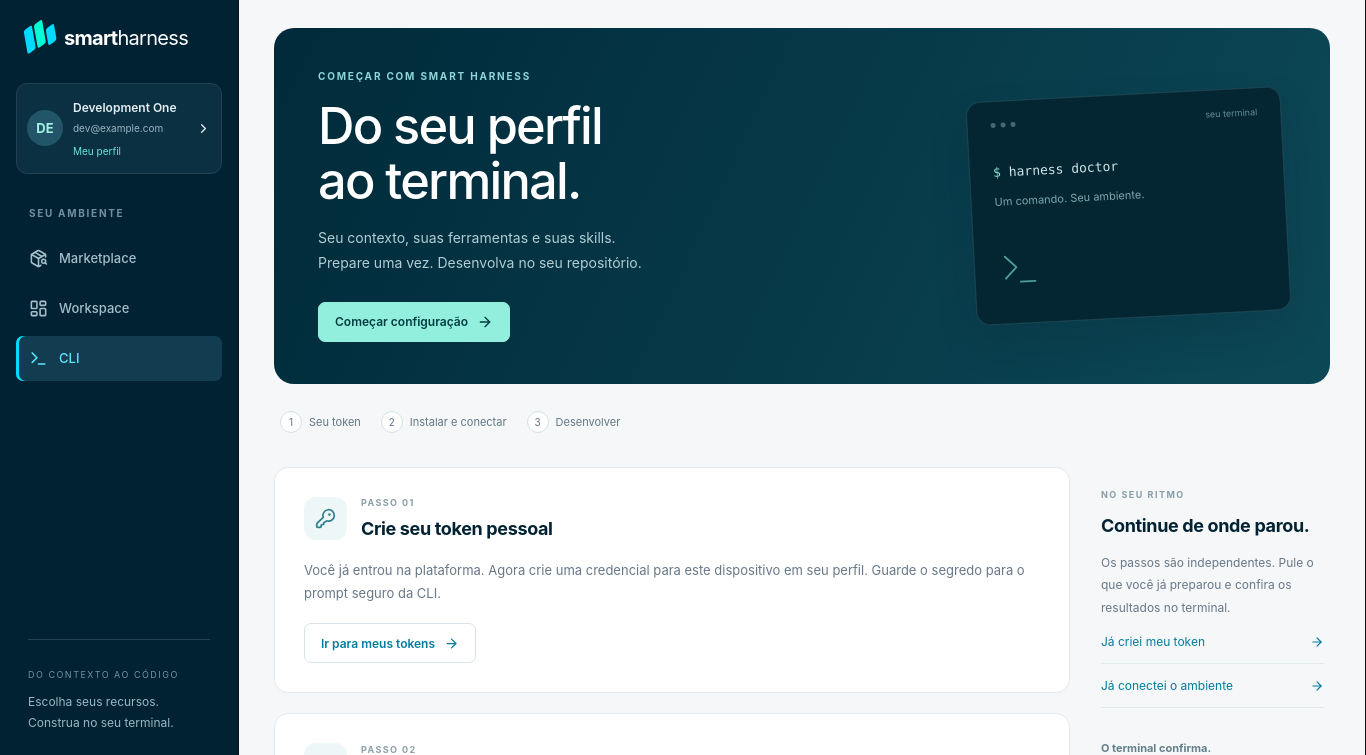
Test: returns from token creation to the personal CLI guide without the secret
(page scrolled)
Click the link "Ir para meus tokens".
click(390, 643)  # box 304,623 -> 476,663
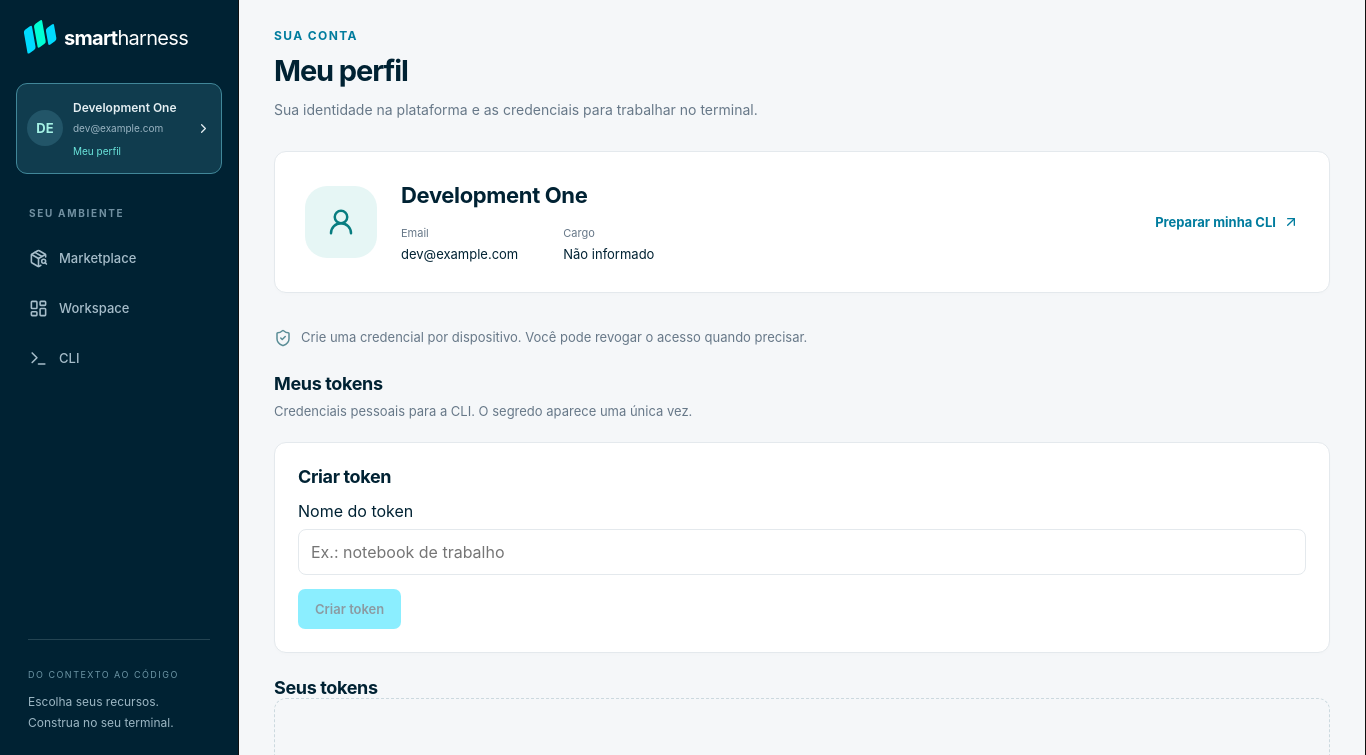
Expected: the heading "Meus tokens" is shown, 274,373 -> 383,394
Type "Laptop" into the field labelled "Nome do token".
click(802, 552); type("Laptop")  # box 298,529 -> 1306,575
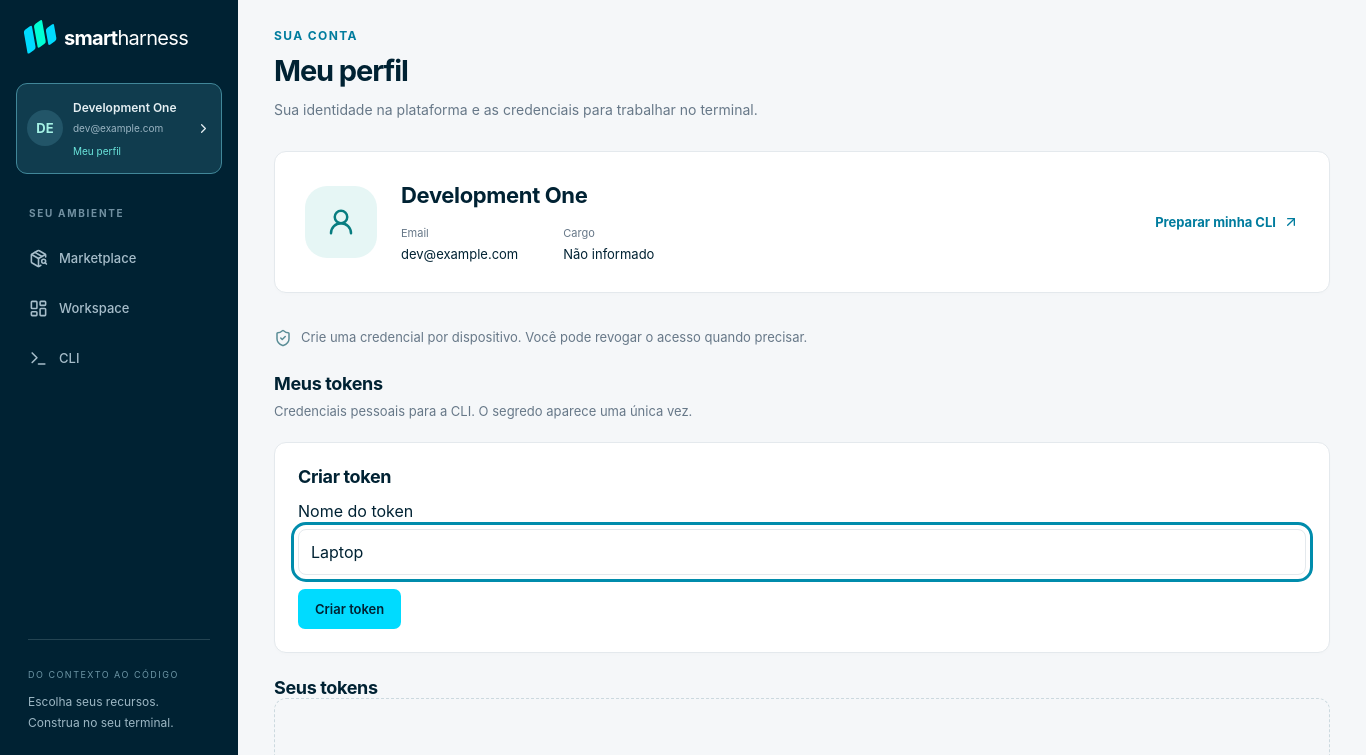
Click the button "Criar token".
click(350, 609)  # box 298,589 -> 401,629
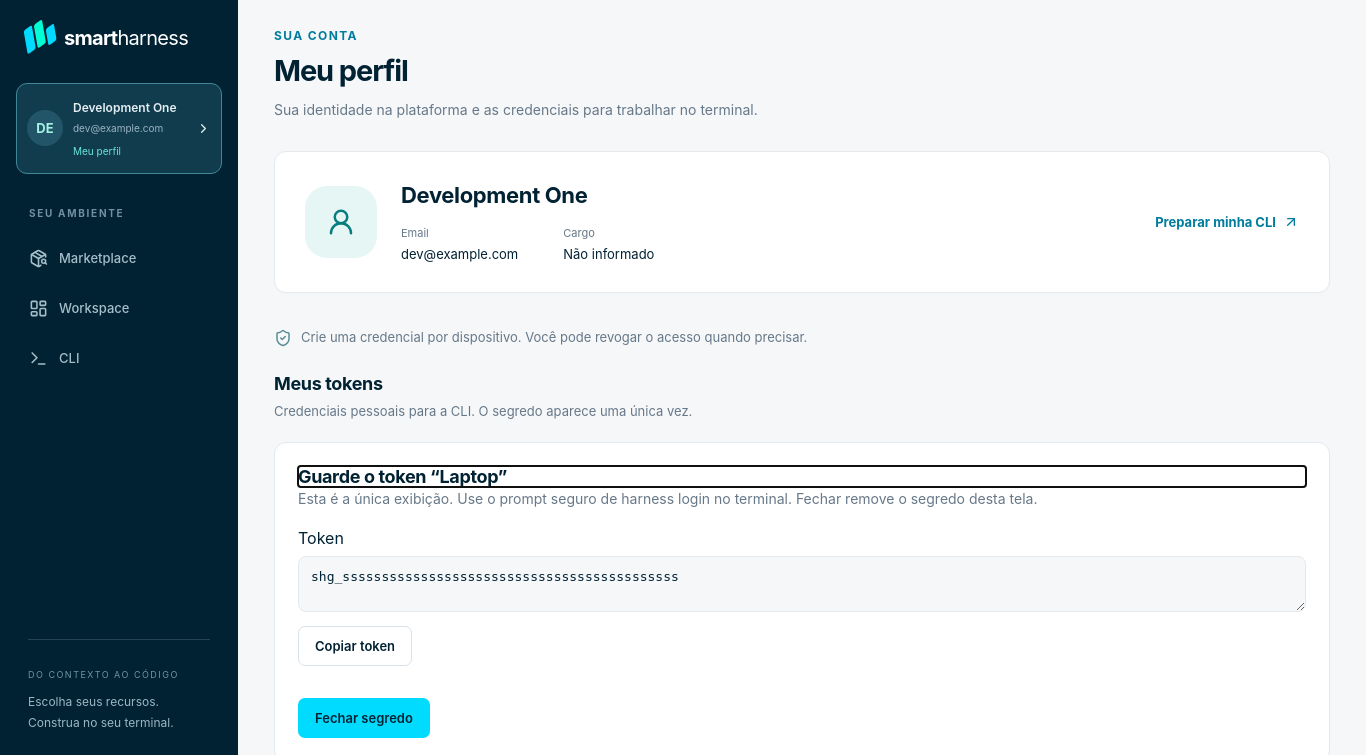
Click the link "Preparar minha CLI".
click(1227, 222)  # box 1155,209 -> 1299,235
(page scrolled)
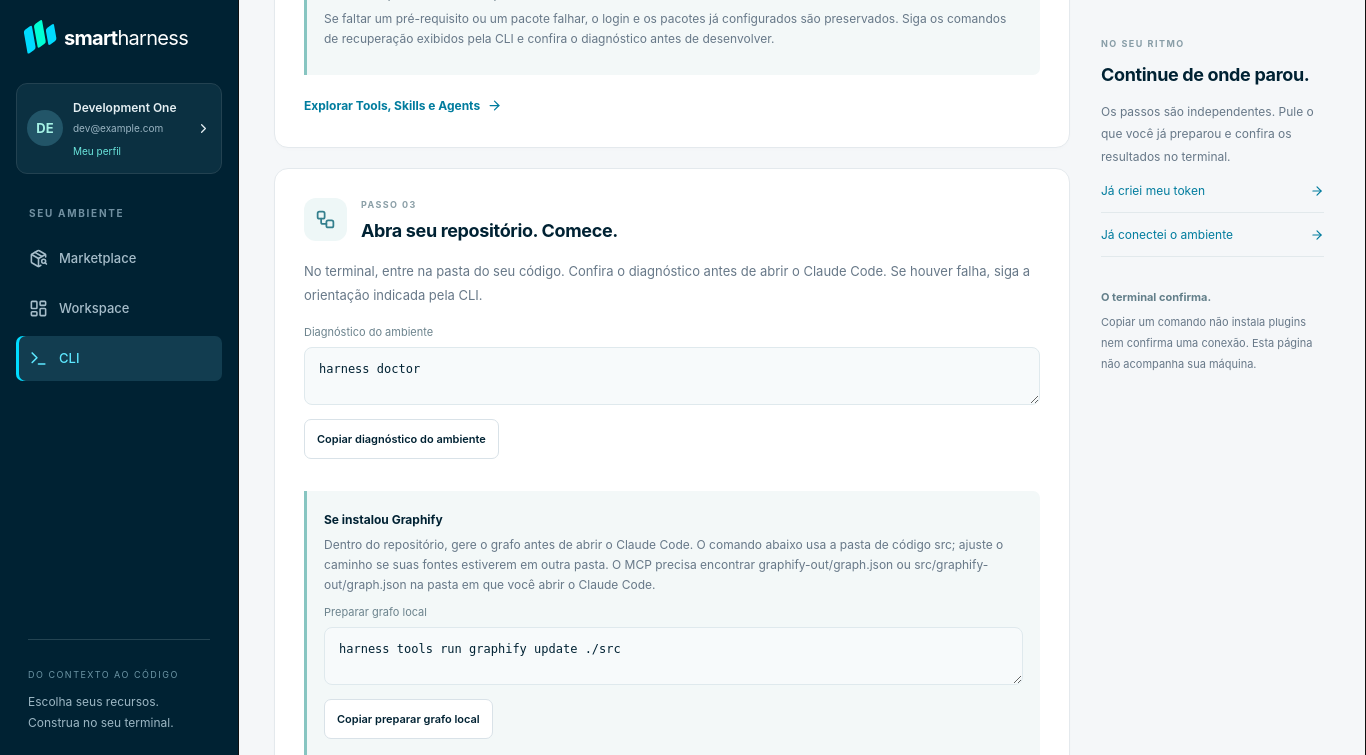
Now the text box showing "harness doctor" is shown, box 304,347 -> 1040,405
